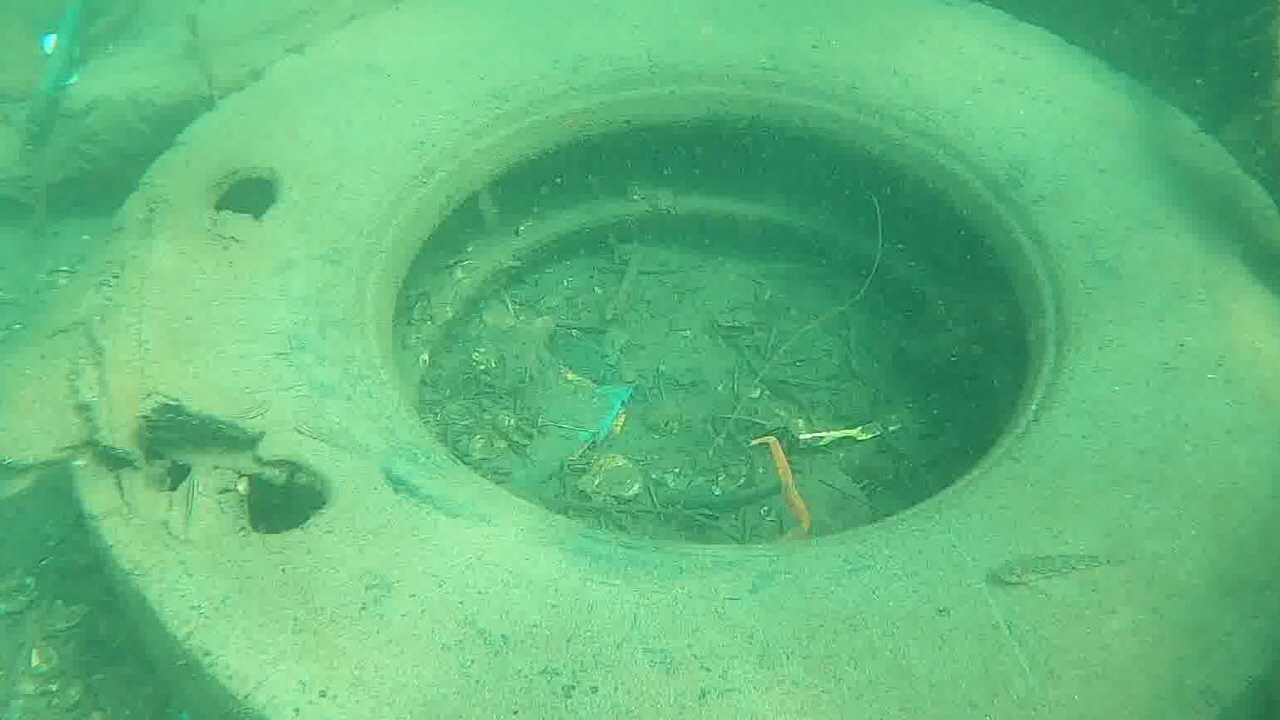tire: (70, 1, 1280, 720)
